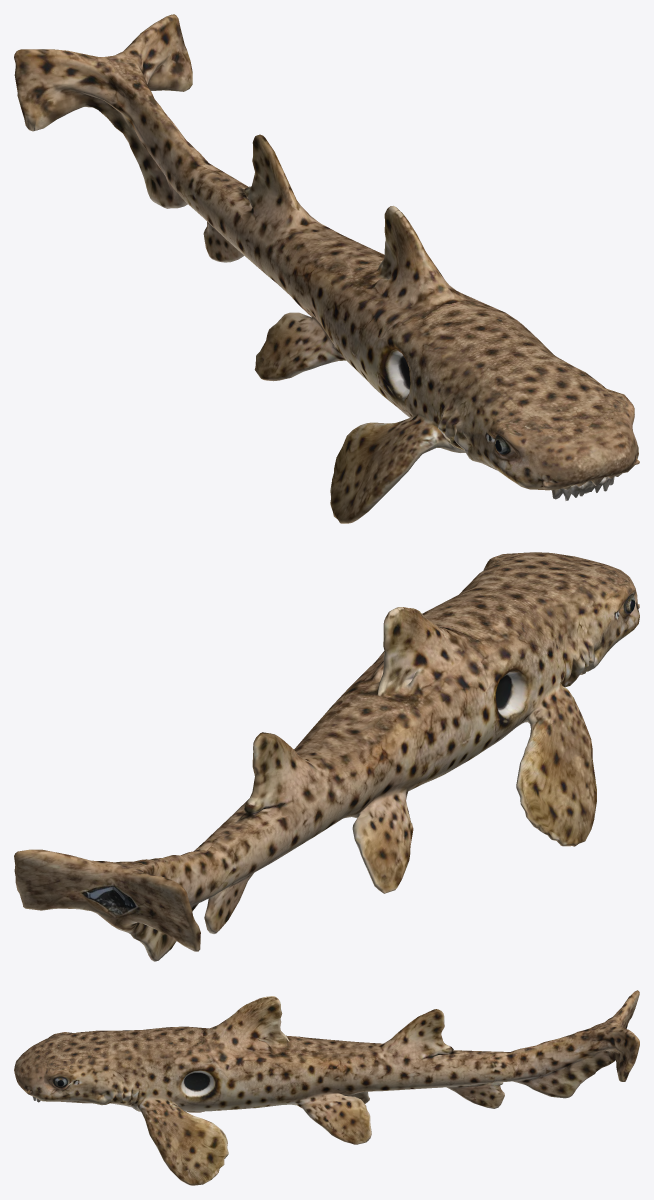
File: epaulette.glb
3 renders of one model, top to bottom at view 1: azimuth 30°, elevation 25°; view 2: azimuth 150°, elevation 25°; view 3: azimuth 270°, elevation 25°, orthographic. The views are drawn at different scales.
Parts seen in each view (by area): view 1: tripo_node_8d8c1318-3a40-4c36-8506-437d5b804398; view 2: tripo_node_8d8c1318-3a40-4c36-8506-437d5b804398; view 3: tripo_node_8d8c1318-3a40-4c36-8506-437d5b804398.
Part boxes in pixels (bbox=[...]): tripo_node_8d8c1318-3a40-4c36-8506-437d5b804398: bbox=[14, 14, 639, 523]; tripo_node_8d8c1318-3a40-4c36-8506-437d5b804398: bbox=[14, 552, 639, 961]; tripo_node_8d8c1318-3a40-4c36-8506-437d5b804398: bbox=[14, 990, 639, 1185].
Size of the model in its own units: 0.2833 by 0.2683 by 0.9988.
Materials: 1 (1 with a texture image).
